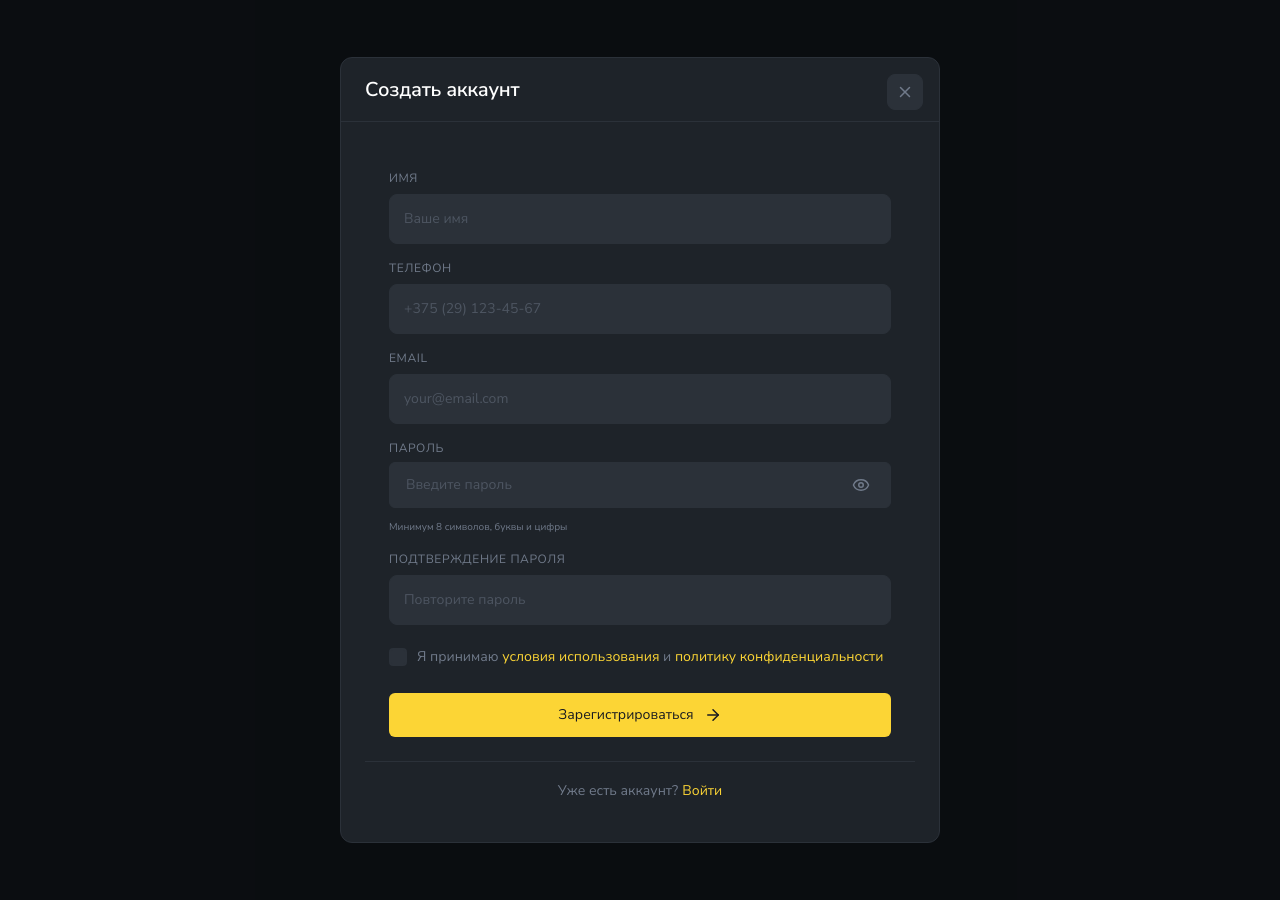
RegisterModal › validates invalid email format on submit
Type "Иван" into the field with placeholder "Ваше имя" at x=640, y=219, box [389,194,891,244]
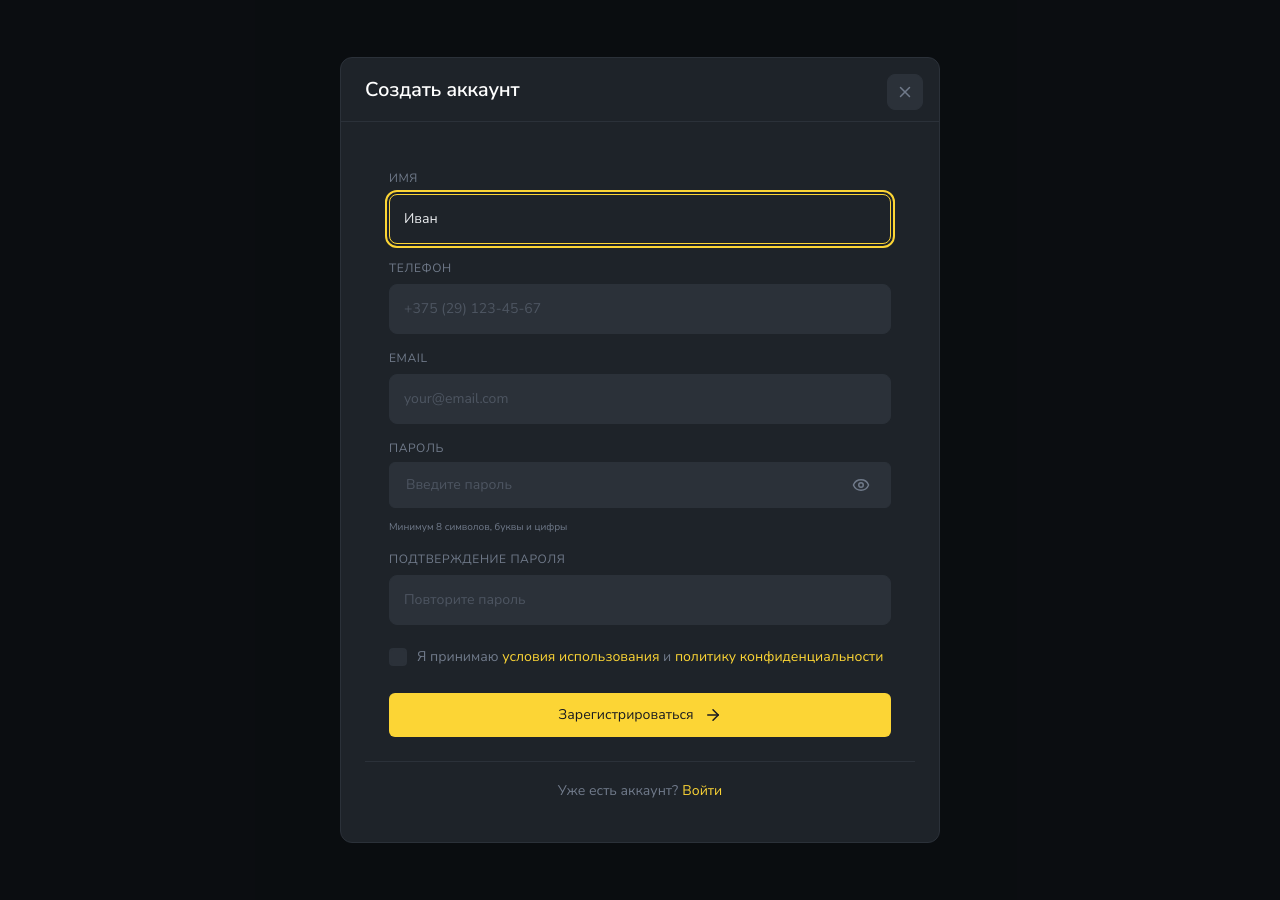
Type "291234567" into the field with placeholder "+375 (29) 123-45-67" at x=640, y=309, box [389,284,891,334]
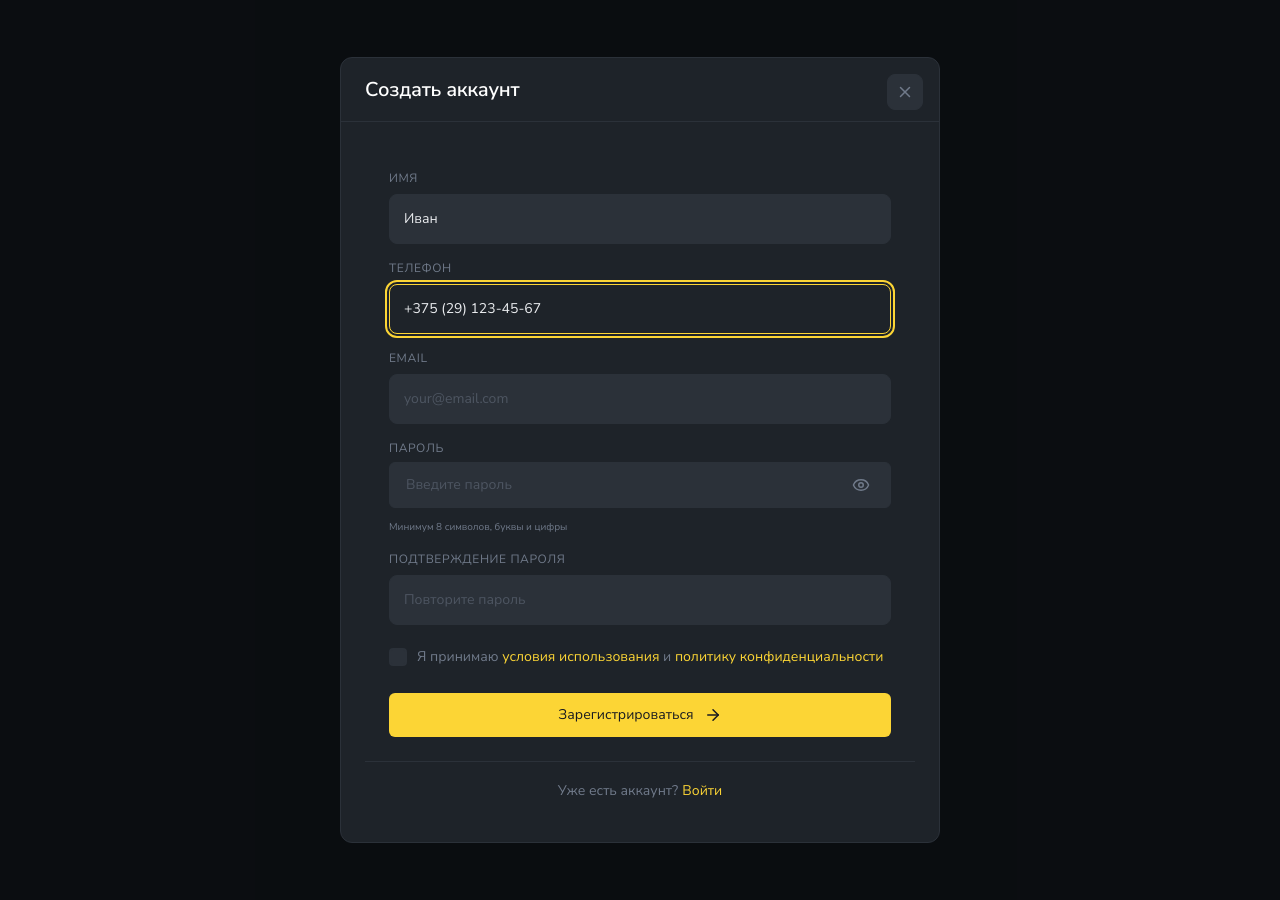
Type "not-email" into the field with placeholder "your@email.com" at x=640, y=399, box [389,374,891,424]
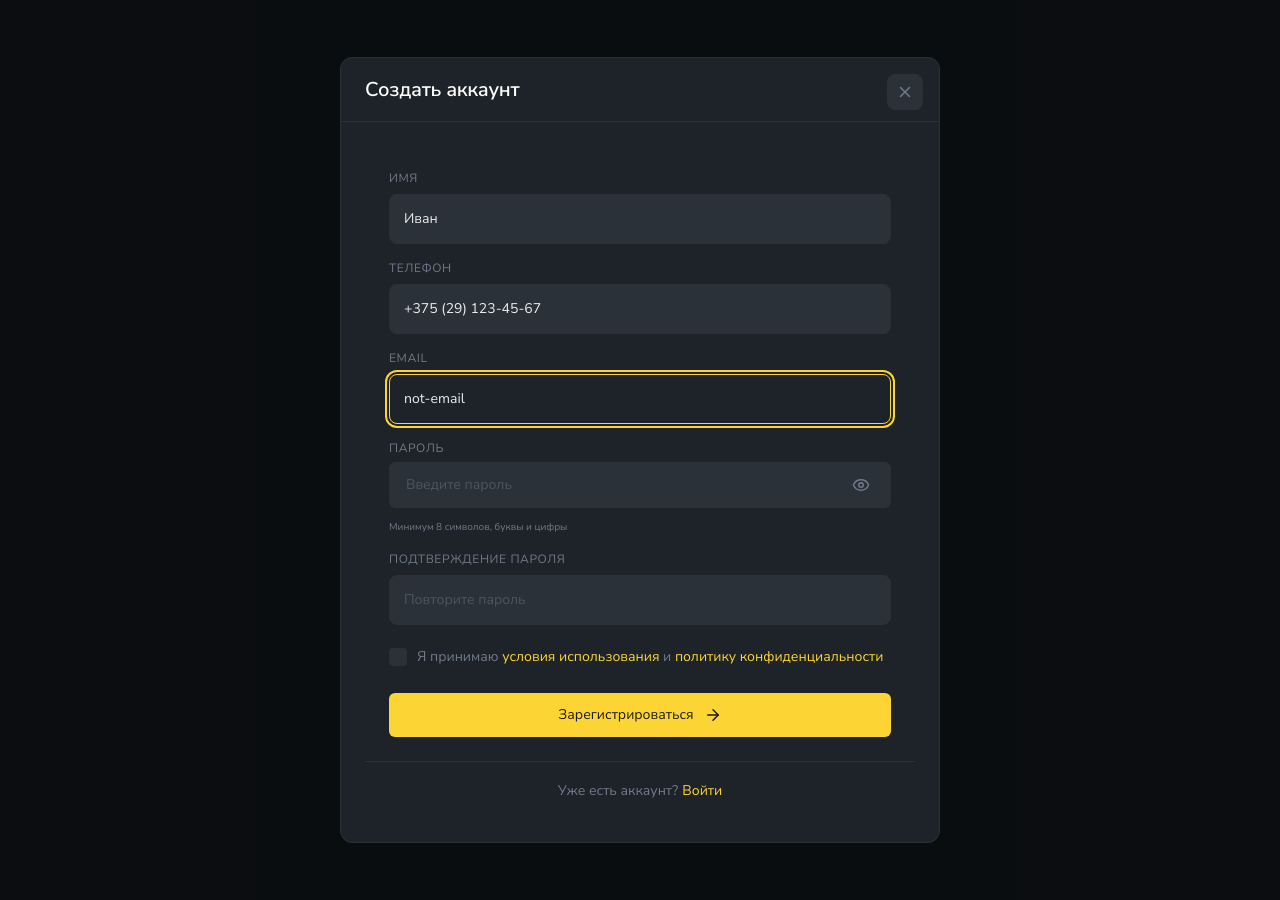
Type "Strong1!Pass" into the password field labelled "Пароль" at x=640, y=485, box [389,462,891,508]
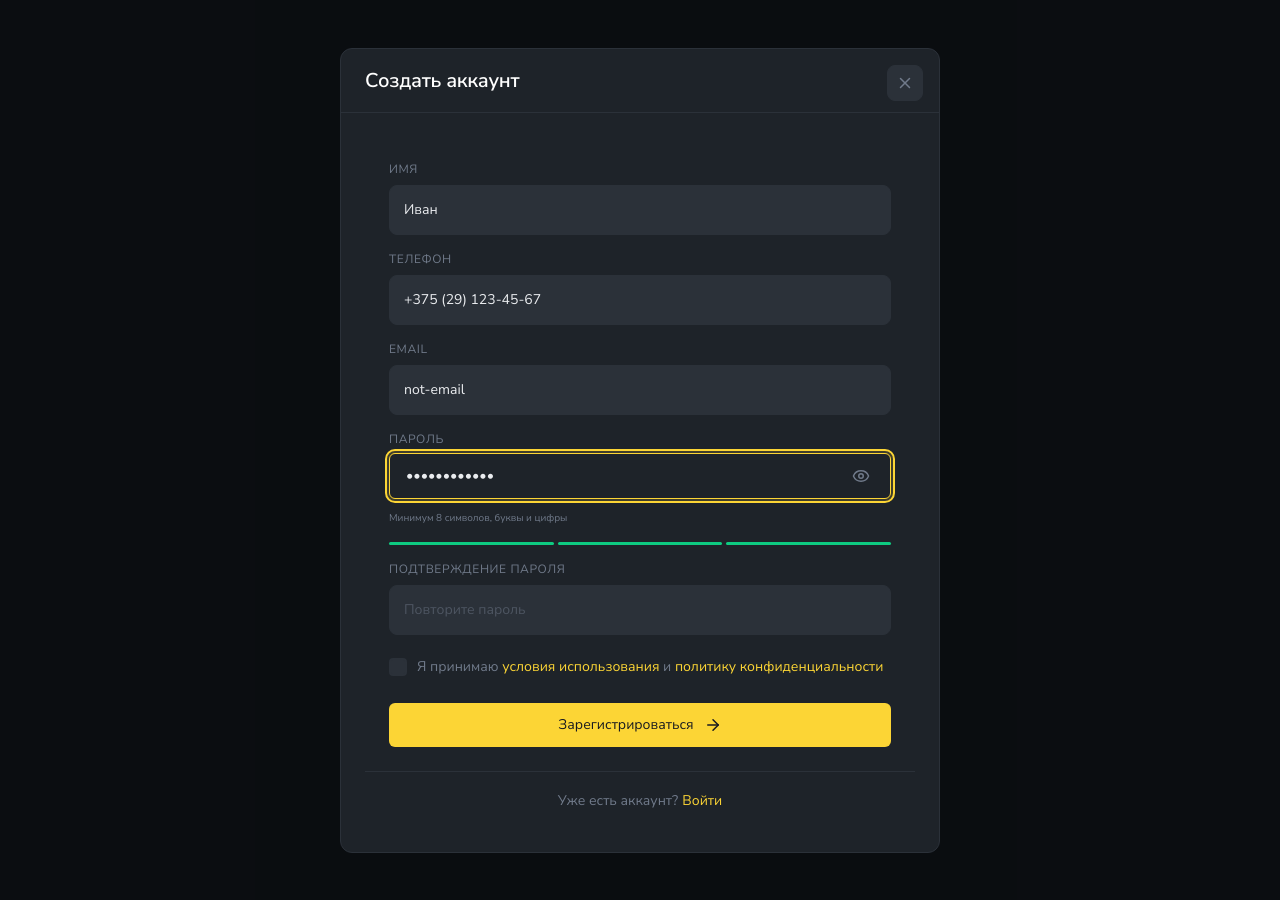
Type "Strong1!Pass" into the password field with placeholder "Повторите пароль" at x=640, y=610, box [389,584,891,634]
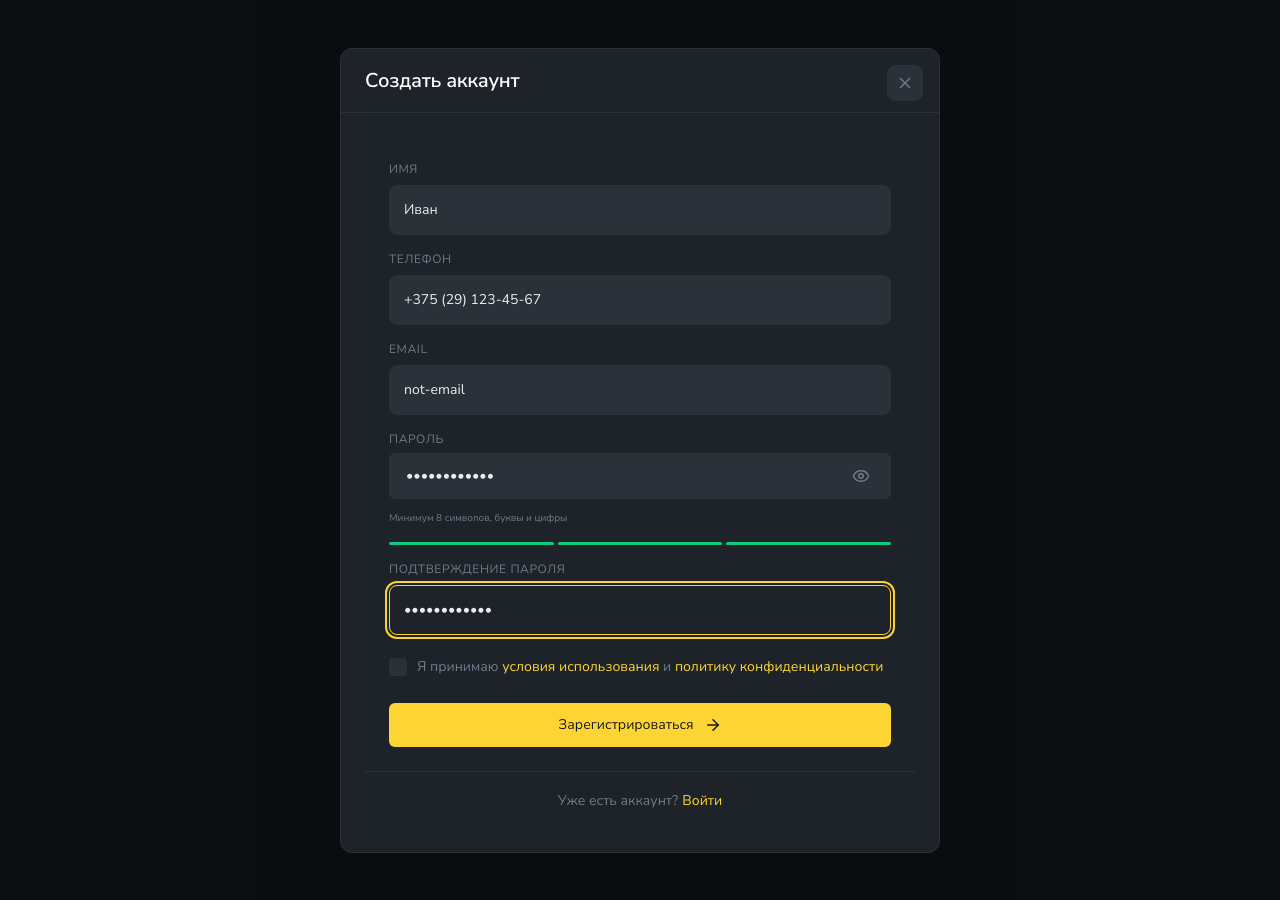
Click the checkbox labelled "Я принимаю" at x=650, y=666, box [417,654,884,678]
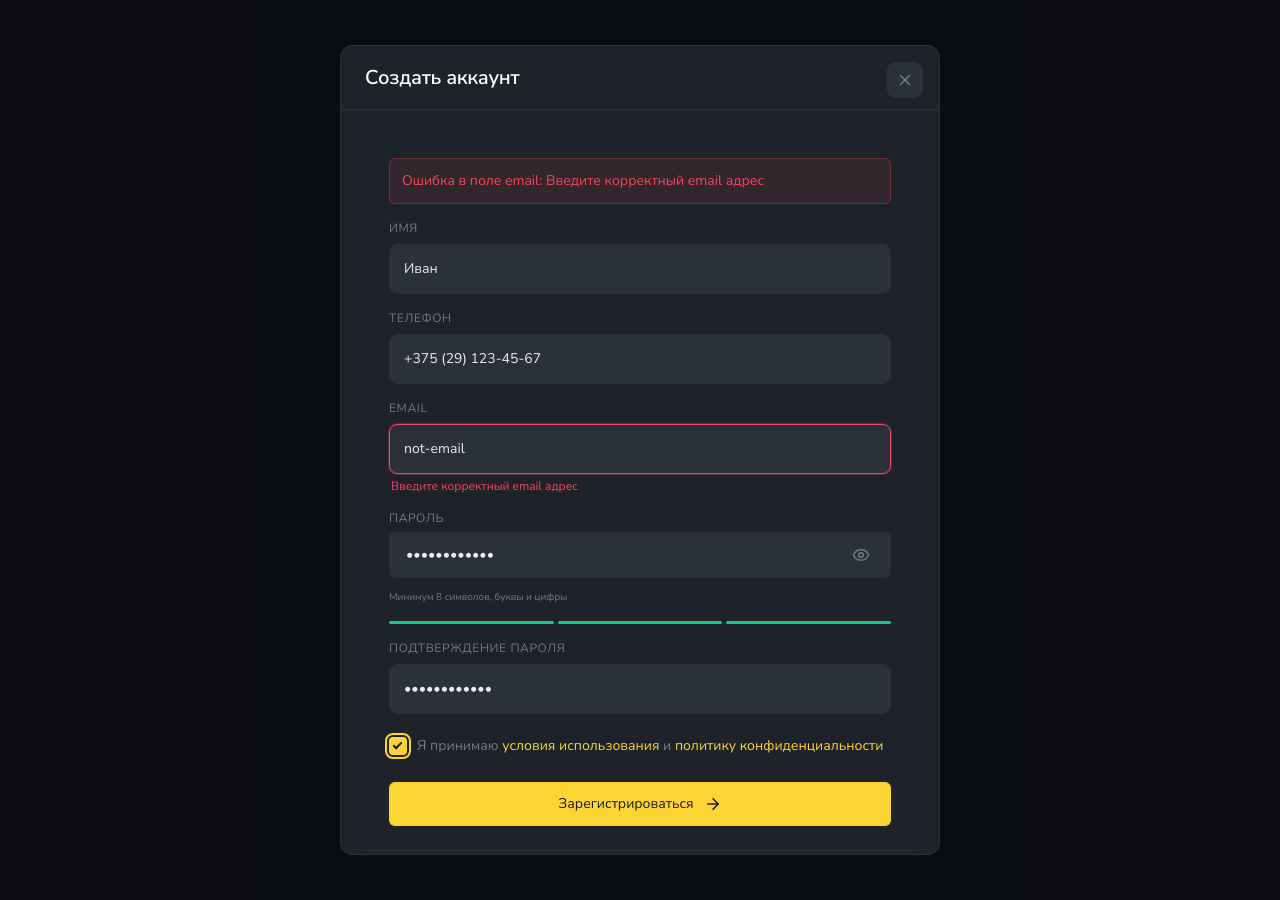
Expected: the text "Введите корректный email адрес" is shown, [391,478,578,494]
